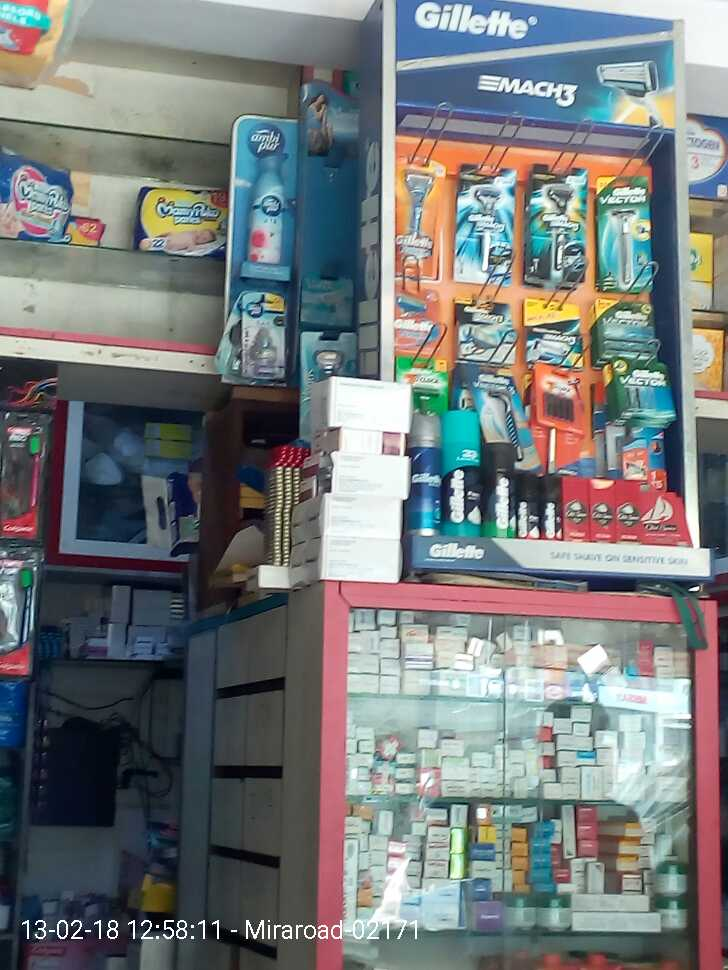beauty: (383, 147, 444, 290), (527, 160, 589, 287), (454, 150, 511, 285), (597, 176, 658, 298), (439, 407, 483, 529), (401, 409, 439, 538), (519, 296, 583, 368), (607, 359, 676, 425), (589, 297, 661, 360), (457, 301, 516, 362), (483, 441, 513, 543), (392, 294, 442, 350), (538, 473, 569, 540), (514, 473, 542, 538)
home: (244, 143, 292, 279), (235, 281, 295, 382)
